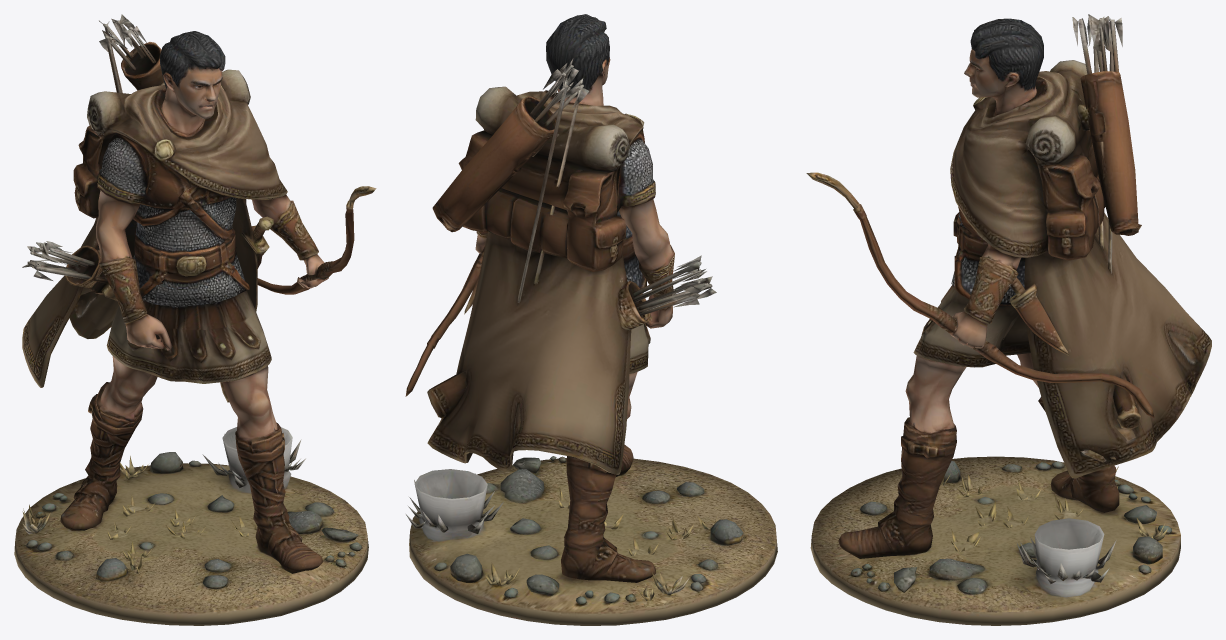
Rendered from explorer_def_male.glb.
3 renders of one model, left to right at view 1: azimuth 30°, elevation 25°; view 2: azimuth 150°, elevation 25°; view 3: azimuth 270°, elevation 25°, orthographic. The views are drawn at different scales.
Visible parts, largest first — view 1: tripo_node_bbef2930-c636-4244-a755-d02ccc6f90e7; view 2: tripo_node_bbef2930-c636-4244-a755-d02ccc6f90e7; view 3: tripo_node_bbef2930-c636-4244-a755-d02ccc6f90e7.
Part boxes in pixels (x1=…): tripo_node_bbef2930-c636-4244-a755-d02ccc6f90e7: x1=14, y1=14, x2=376, y2=625; tripo_node_bbef2930-c636-4244-a755-d02ccc6f90e7: x1=405, y1=14, x2=777, y2=625; tripo_node_bbef2930-c636-4244-a755-d02ccc6f90e7: x1=806, y1=14, x2=1211, y2=625.
Size of the model in its own units: 0.6309 by 0.998 by 0.6934.
Materials: 1 (1 with a texture image).
